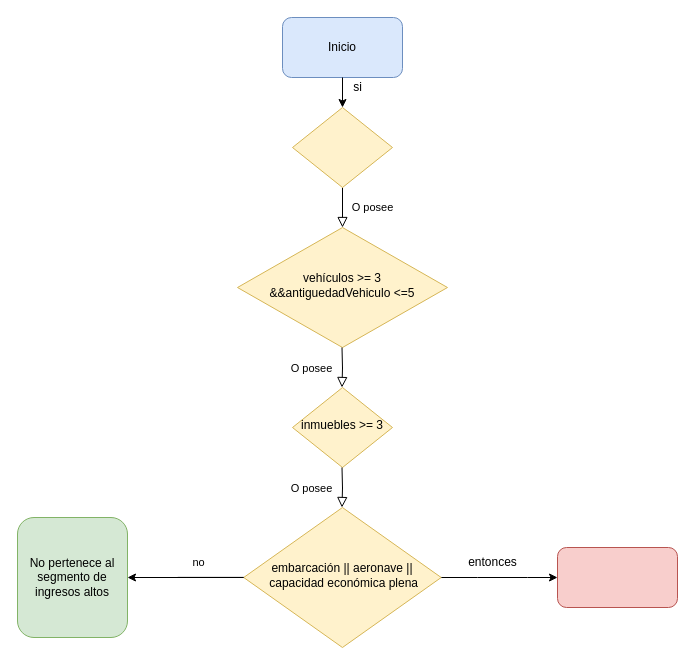
The diagram is 695 pixels wide and 665 high, and some of its shapes have lost their labels. The shapes that lost their labels are listed below. From the top down, each one's box as (x1, y1, x2, y2) in pixels, then its label:
(292, 106, 392, 188): Ingresos mensuales >= $489.083
(556, 546, 678, 608): Pertenece al segmento de ingresos altos
